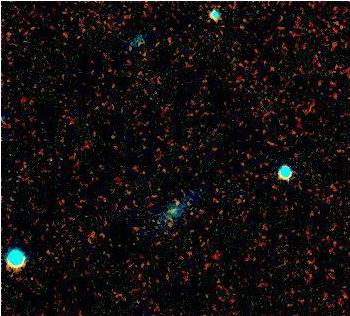star: (163, 187, 193, 217)
